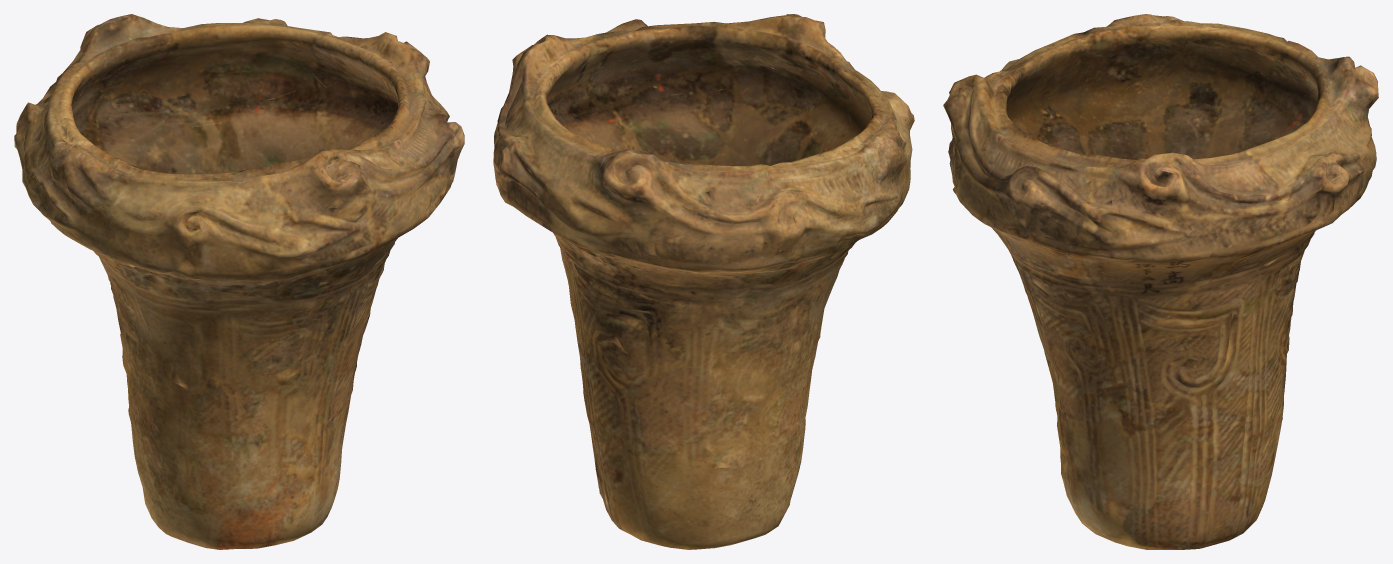
3 renders of one model, left to right at view 1: azimuth 30°, elevation 25°; view 2: azimuth 150°, elevation 25°; view 3: azimuth 270°, elevation 25°, orthographic.
Visible parts, largest first — view 1: UD0016_low; view 2: UD0016_low; view 3: UD0016_low.
Part boxes in pixels (bbox=[...]): UD0016_low: bbox=[14, 14, 464, 549]; UD0016_low: bbox=[493, 14, 914, 549]; UD0016_low: bbox=[943, 14, 1378, 549].
Bounding box in the file's own units: 197 × 220 × 197.
1 material, 1 textured.
